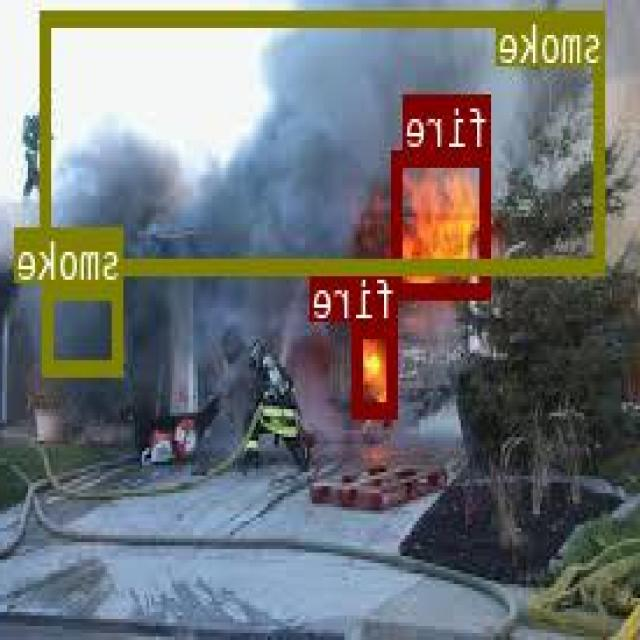fire: (394, 148, 492, 297), (354, 320, 400, 414)
smoke: (42, 8, 607, 270), (45, 282, 126, 371)
